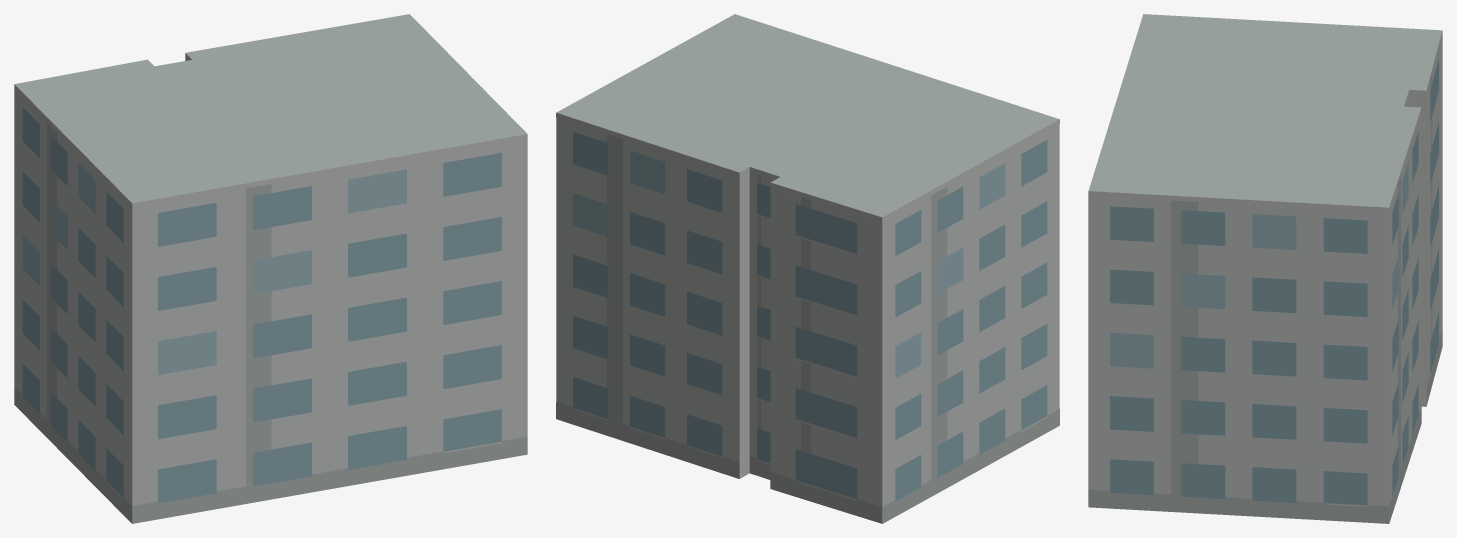
The model's file is survey-upis-32732657.glb.
3 views of the same model, side by side, from view 1: azimuth 30°, elevation 25°; view 2: azimuth 150°, elevation 25°; view 3: azimuth 270°, elevation 25° (orthographic). The views are drawn at different scales.
Visible parts, largest first — view 1: survey-upis-32732657.tmp; view 2: survey-upis-32732657.tmp; view 3: survey-upis-32732657.tmp.
Boxes of the visible parts, left/top/right/bottom form: survey-upis-32732657.tmp: left=14, top=14, right=527, bottom=523; survey-upis-32732657.tmp: left=556, top=14, right=1059, bottom=523; survey-upis-32732657.tmp: left=1088, top=14, right=1442, bottom=523.
Size of the model in its own units: 20.03 by 15.25 by 15.48.
